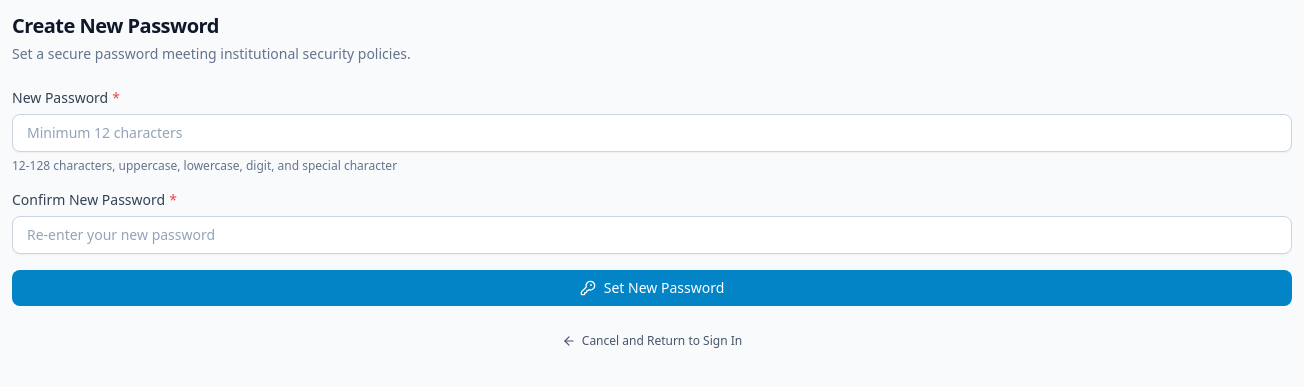
Test: 8. Reset Password Client-Side Validation › rejects passwords where confirmation does not match
Type "ValidPassword123!" into the password field labelled "New Password*" at (652, 133), box [12,114,1292,152]
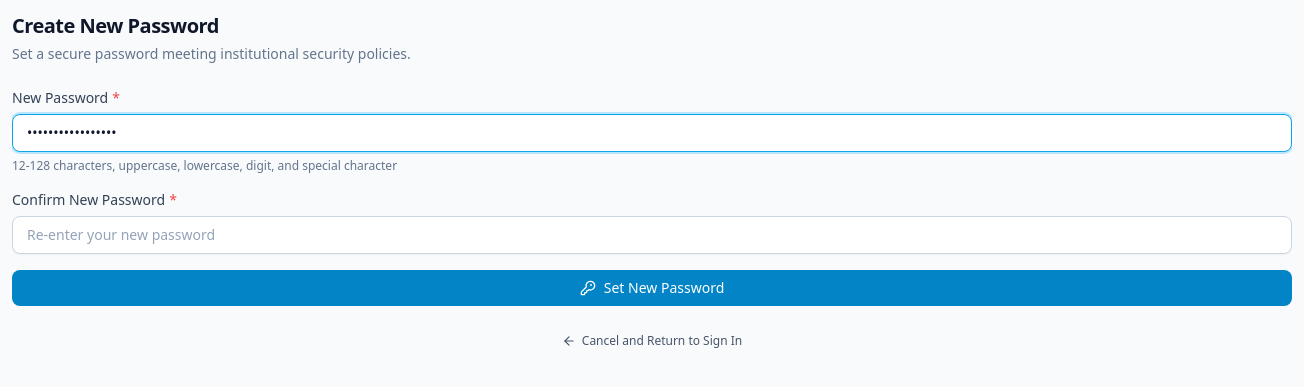
Type "DifferentPassword456!" into the password field labelled "Confirm New Password*" at (652, 235), box [12,216,1292,254]
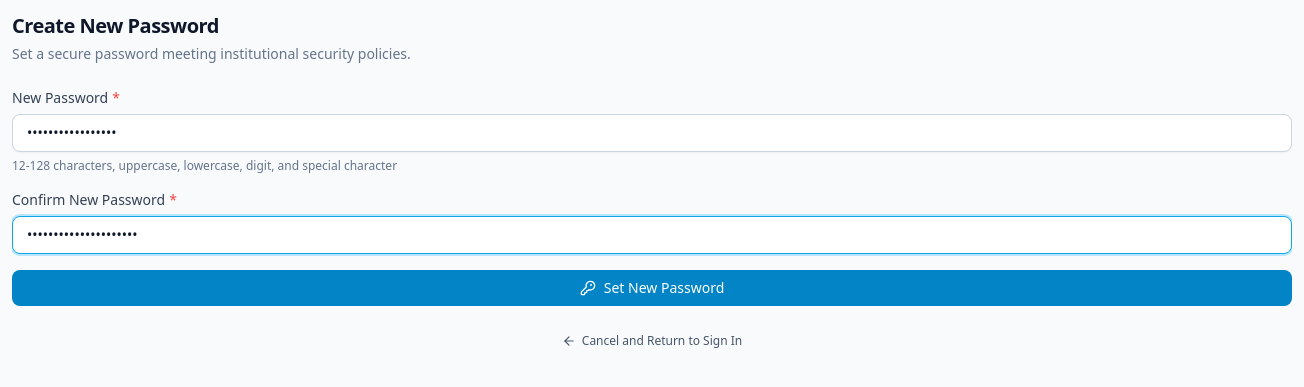
Click the button "Set New Password" at (652, 288), box [12,270,1292,306]
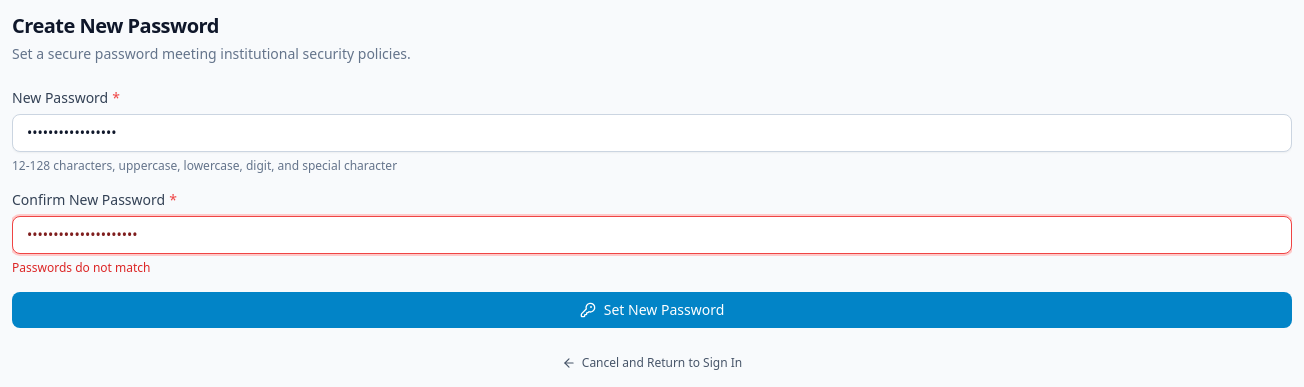
Expected: the text "Passwords do not match" is shown, [12,259,150,276]
